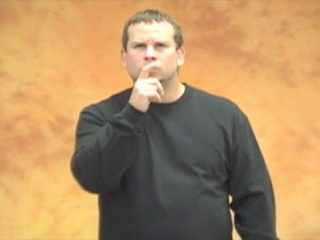who: (124, 55, 183, 115)
